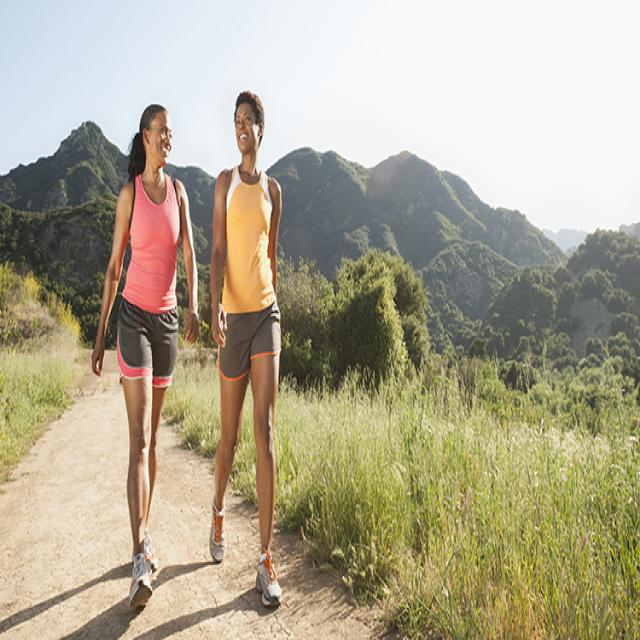Person: (91, 103, 198, 610), (209, 90, 283, 606)
